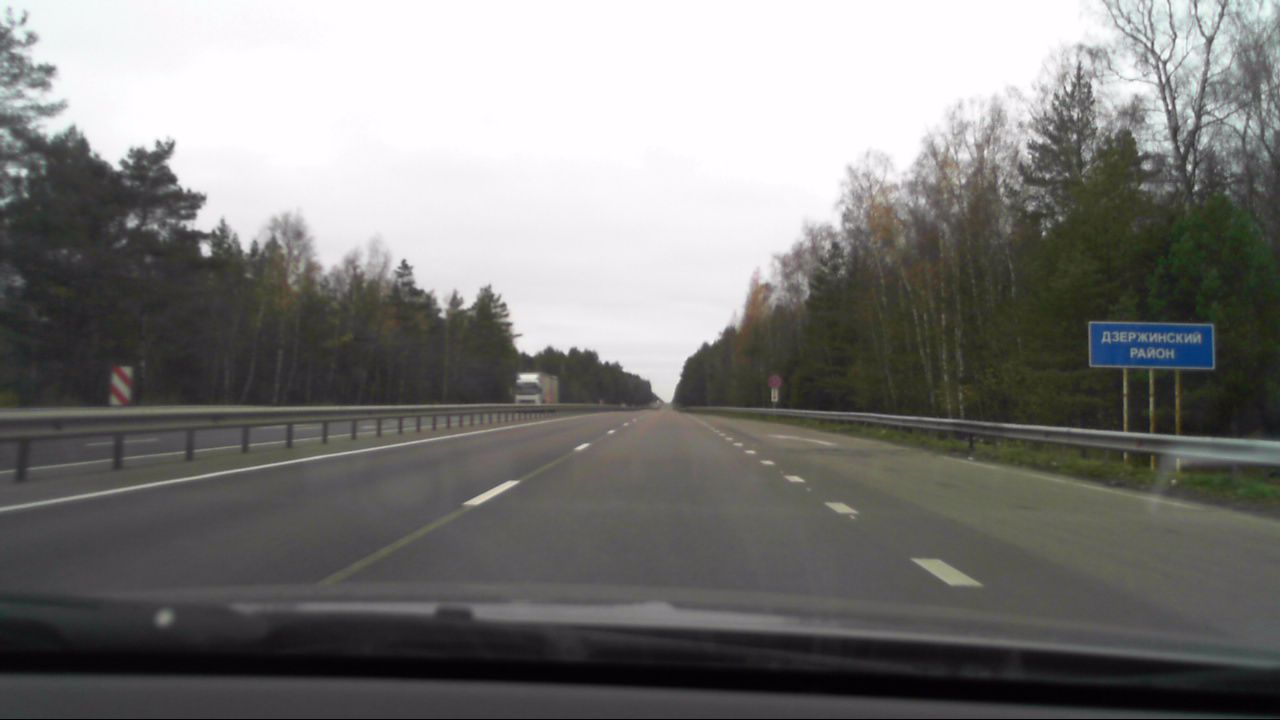No Parking: (764, 370, 783, 388)
